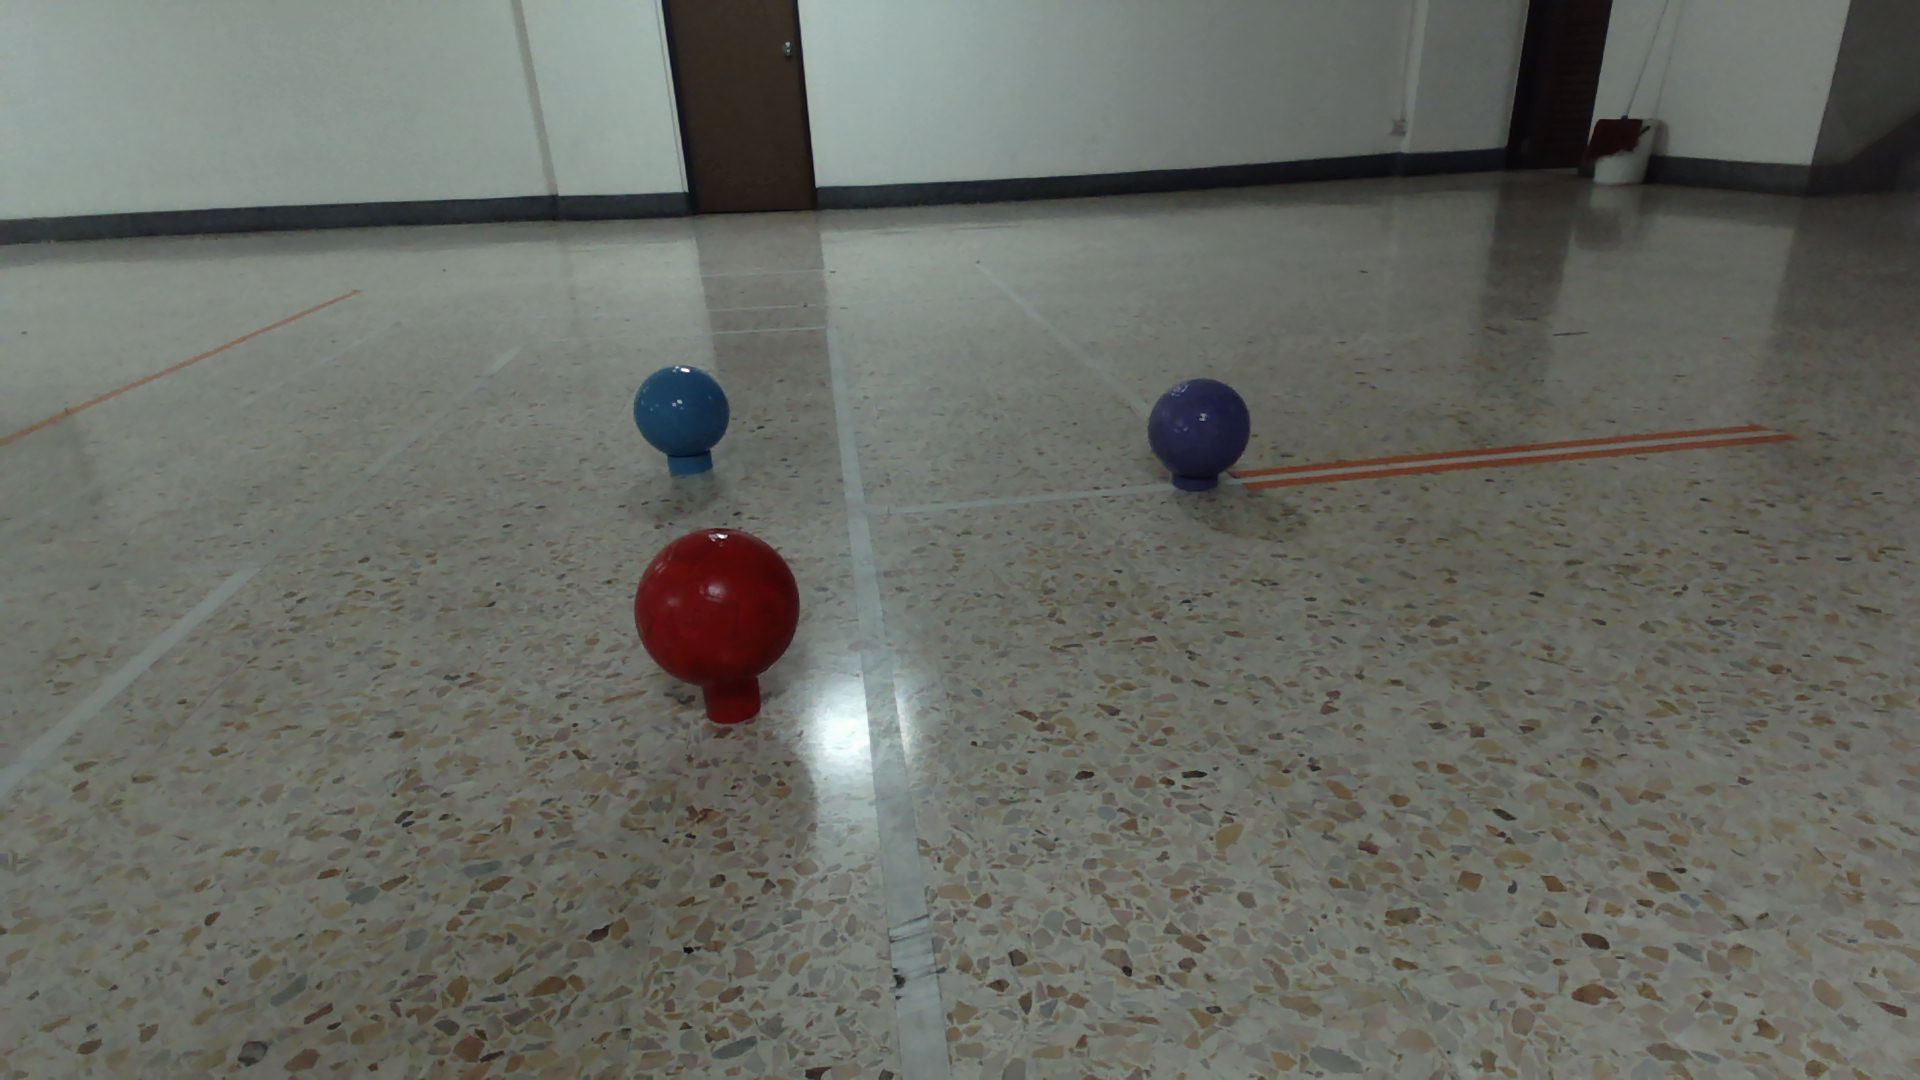Blue ball: (632, 364, 732, 458)
Purple ball: (1145, 376, 1251, 479)
Red ball: (632, 524, 800, 690)
